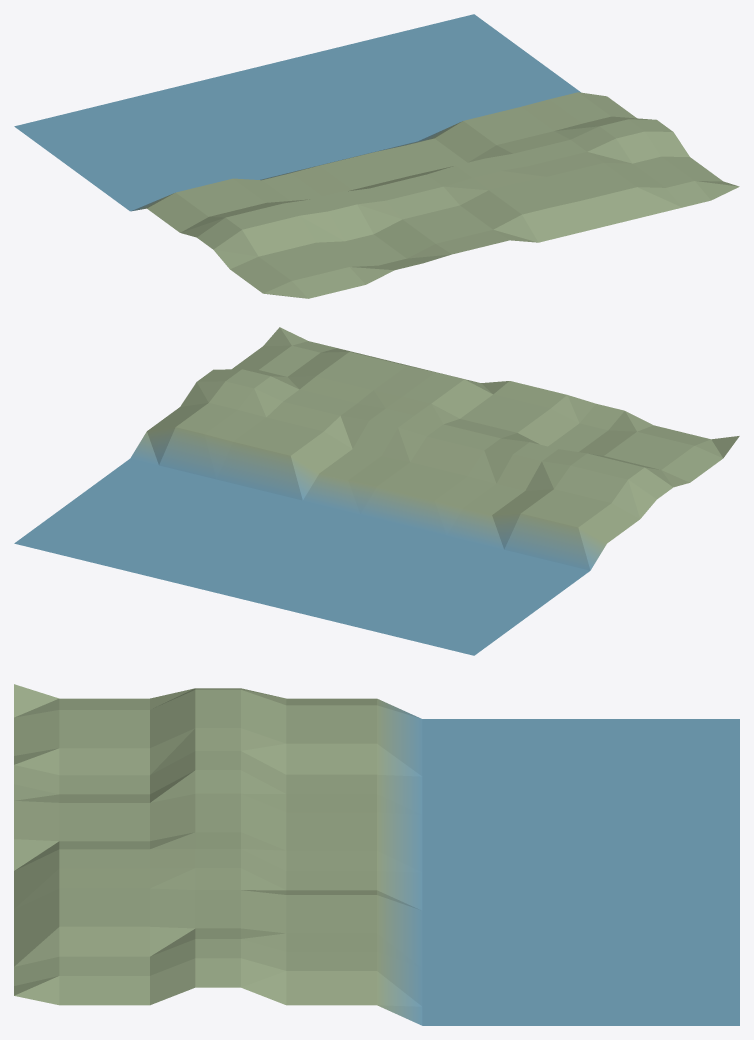
3 renders of one model, top to bottom at view 1: azimuth 30°, elevation 25°; view 2: azimuth 150°, elevation 25°; view 3: azimuth 270°, elevation 25°, orthographic. The views are drawn at different scales.
Size of the model in its own units: 32 by 2.36 by 32.
